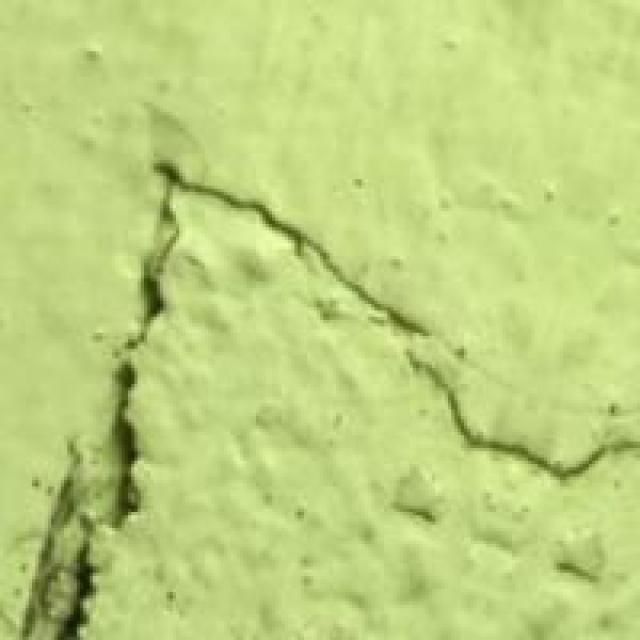crack: (22, 141, 554, 614)
